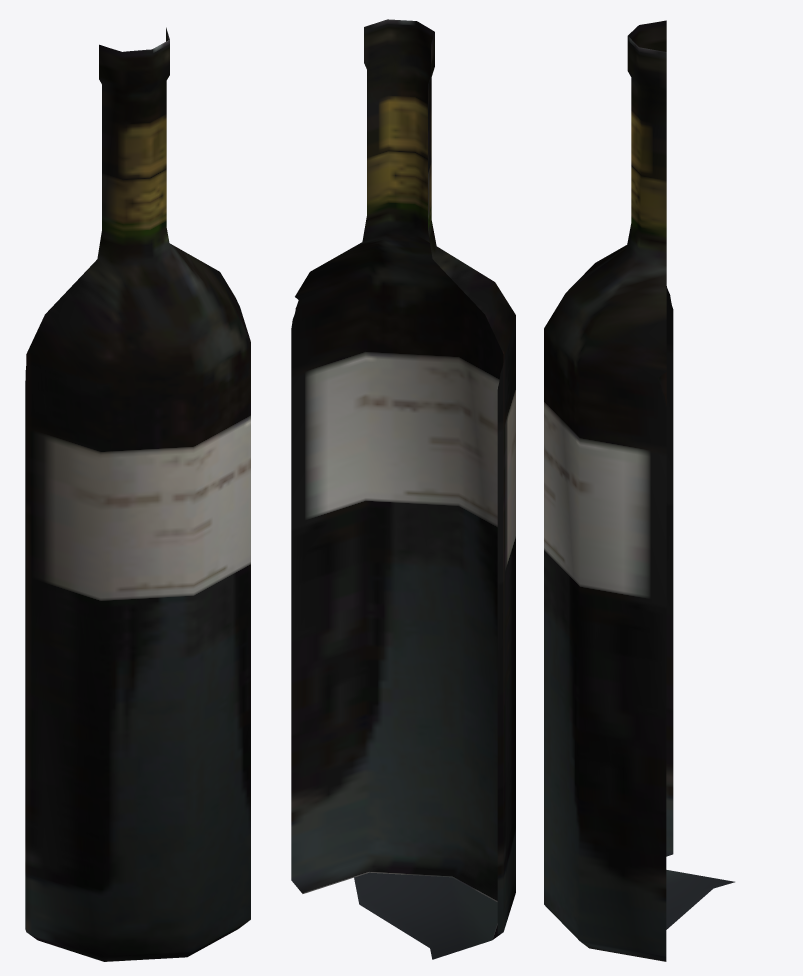
The model's file is www 1.FBX.
3 renders of one model, left to right at view 1: azimuth 30°, elevation 25°; view 2: azimuth 150°, elevation 25°; view 3: azimuth 270°, elevation 25°, orthographic.
Parts seen in each view (by area): view 1: Mesh_0896; view 2: Mesh_0896; view 3: Mesh_0896.
Part boxes in pixels (<box>): Mesh_0896: <box>25,27,250,961</box>; Mesh_0896: <box>291,19,515,959</box>; Mesh_0896: <box>544,20,734,961</box>.
Bounding box in the file's own units: 7.26 × 7.26 × 29.04.
